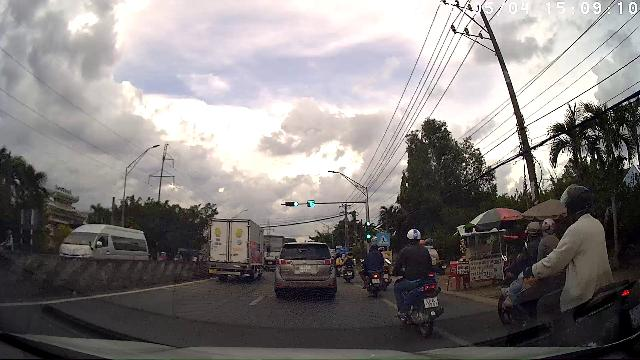423a-duong-nguoi-di-bo-sang-ngang-1: (376, 233, 389, 245)
